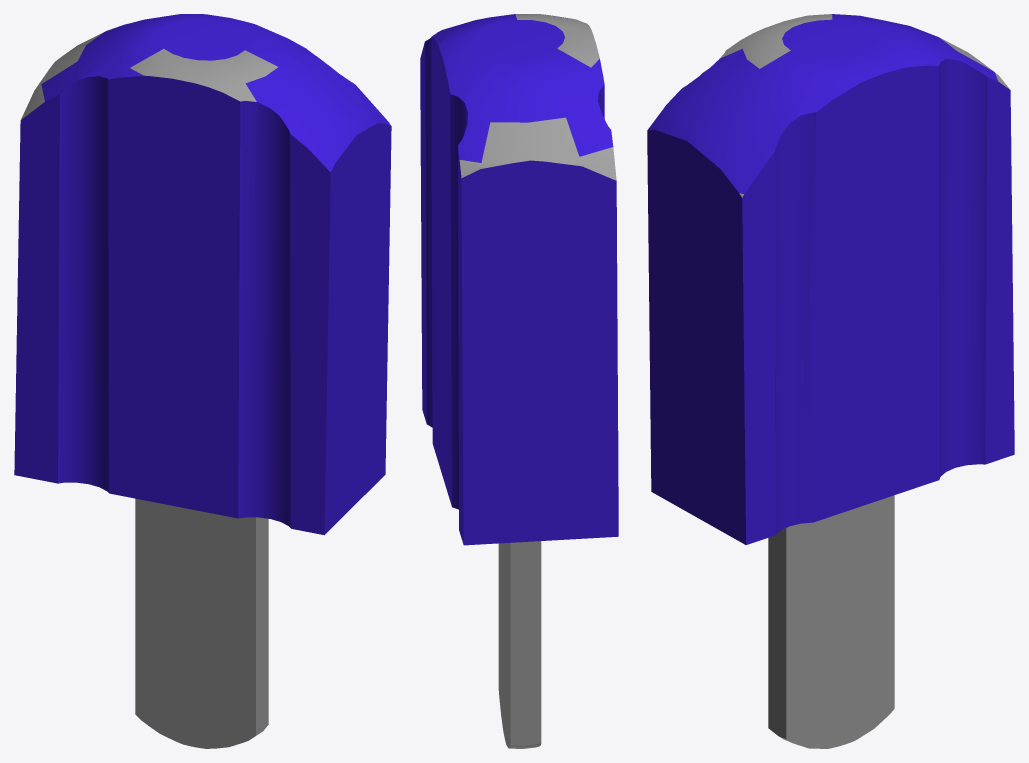
File: paletawtf.obj
3 views of the same model, side by side, from view 1: azimuth 30°, elevation 25°; view 2: azimuth 150°, elevation 25°; view 3: azimuth 270°, elevation 25° (orthographic).
Visible parts, largest first — view 1: pCube8, pCube2; view 2: pCube8, pCube2; view 3: pCube8, pCube2.
Part boxes in pixels (x1,y1,x2,y2): pCube8: [14, 14, 391, 535]; pCube2: [135, 498, 268, 748]; pCube8: [420, 14, 618, 545]; pCube2: [498, 541, 541, 748]; pCube8: [647, 14, 1014, 545]; pCube2: [768, 495, 894, 748].
Bounding box in the file's own units: 2.51 × 5.85 × 2.77.
